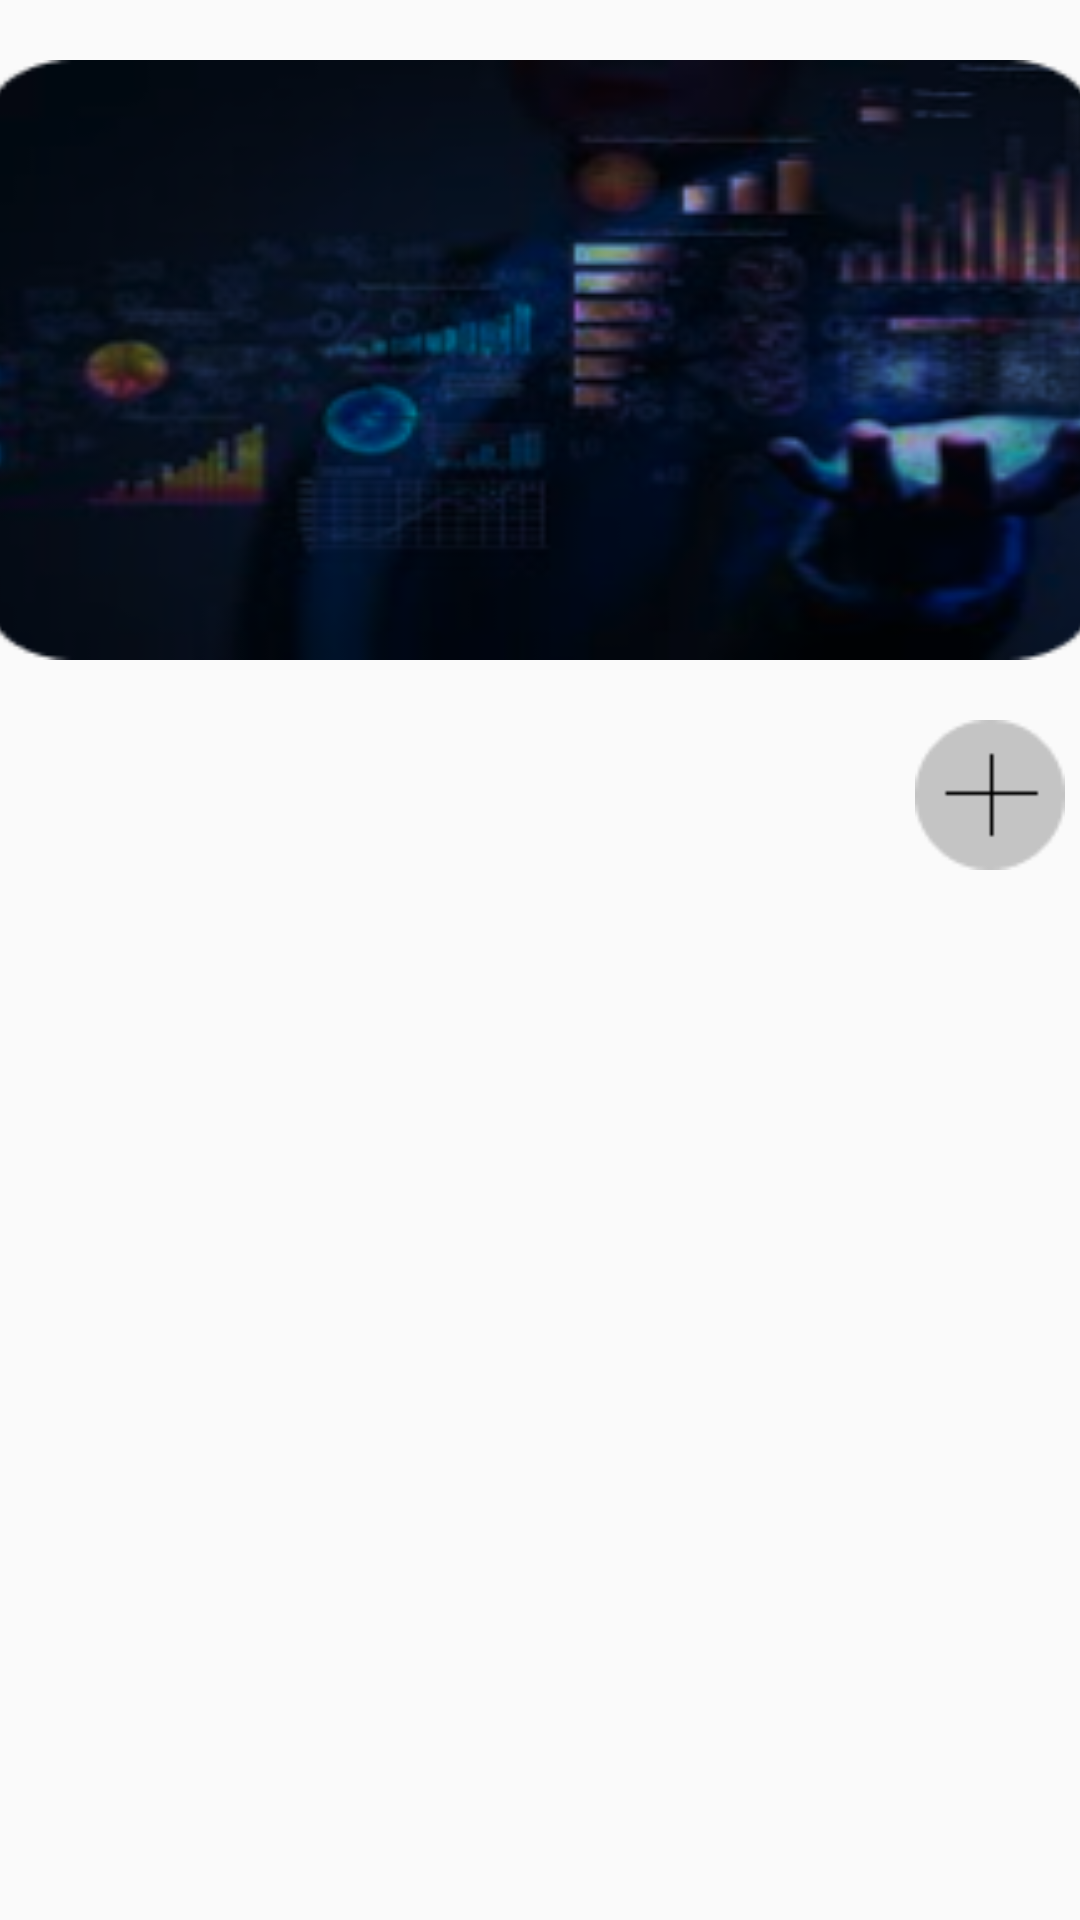

Icon click points for this 1080*1920 phone screenshot, format point (x, y):
tambah: point (990, 795)
